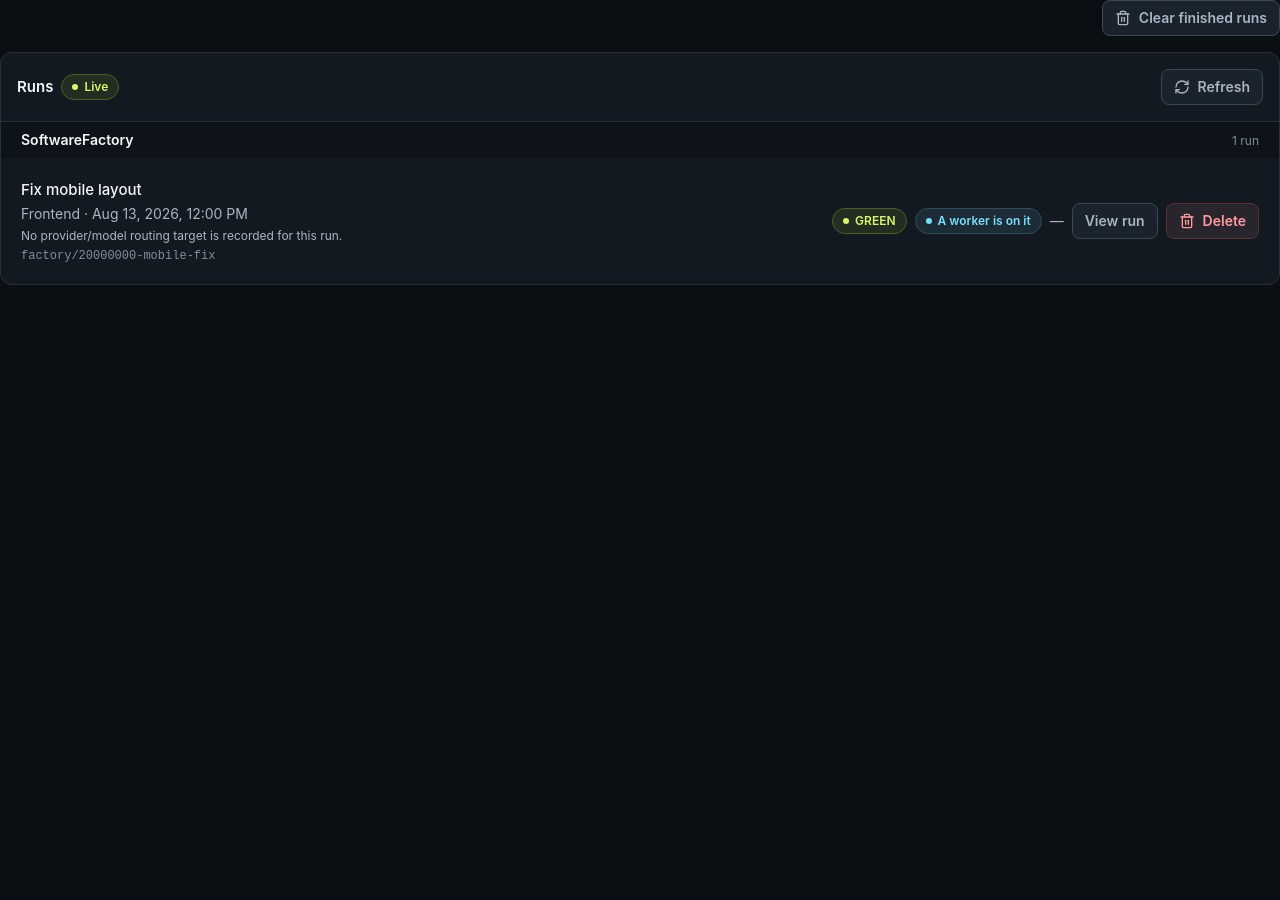
Phase 1C control-plane consoles › shows durable run timeline, validation, file, PR, and CI evidence
Click the button "View run".
click(1115, 221)  # box [1072,203,1158,239]
(page scrolled)
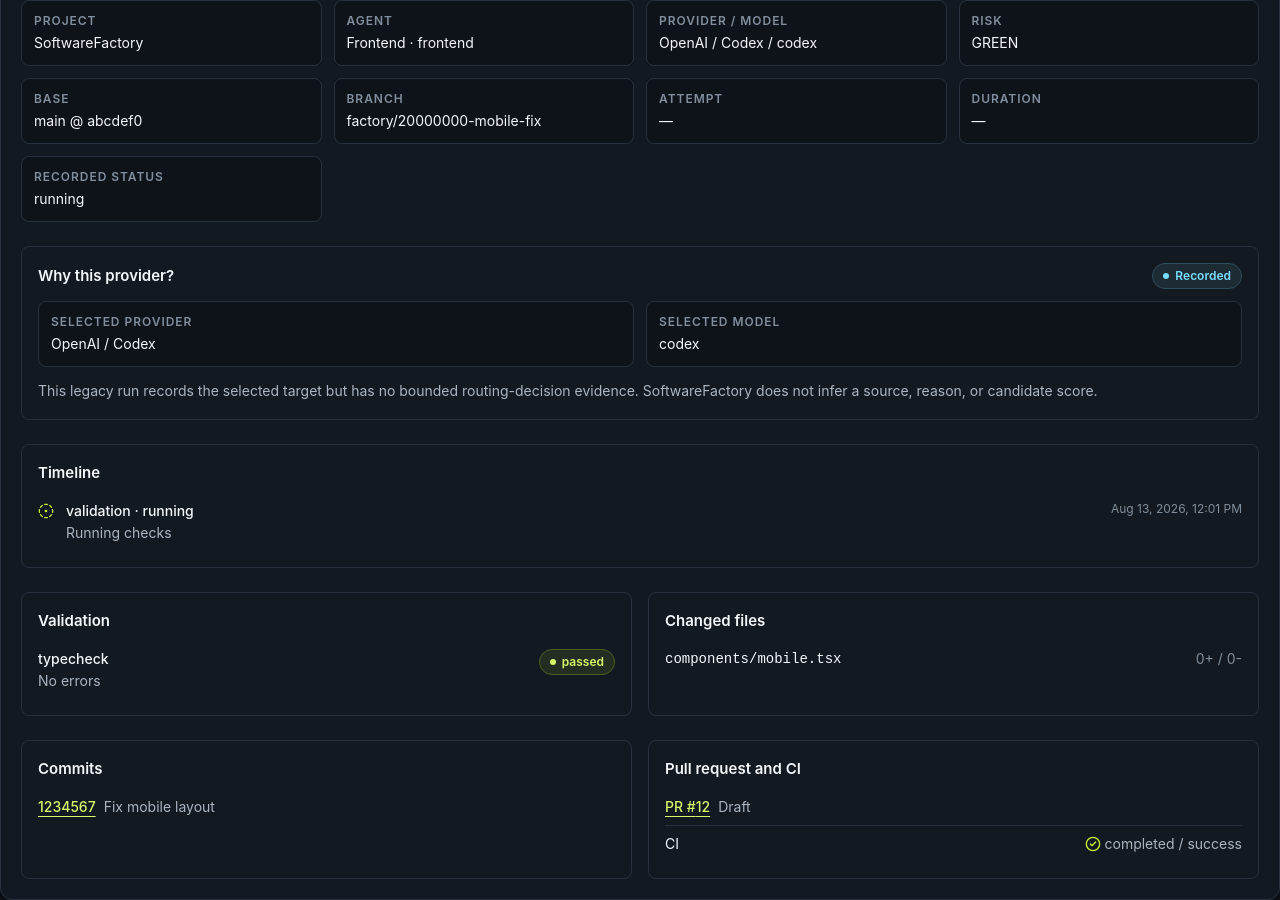
Check: the text "Running checks" is shown, box [66,524,172,541]
Check: the text "components/mobile.tsx" is shown, box [665,649,841,669]
Check: the link "PR #12" is shown, box [665,798,710,815]
